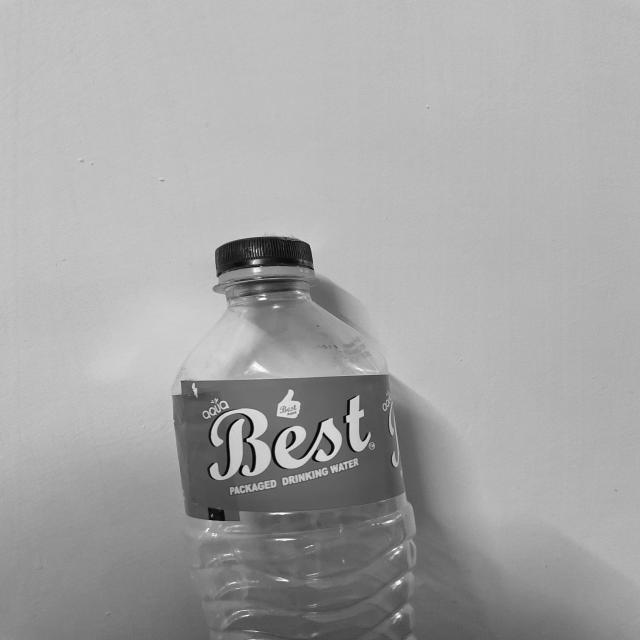Good-cap-Df0S: (208, 232, 320, 283)
